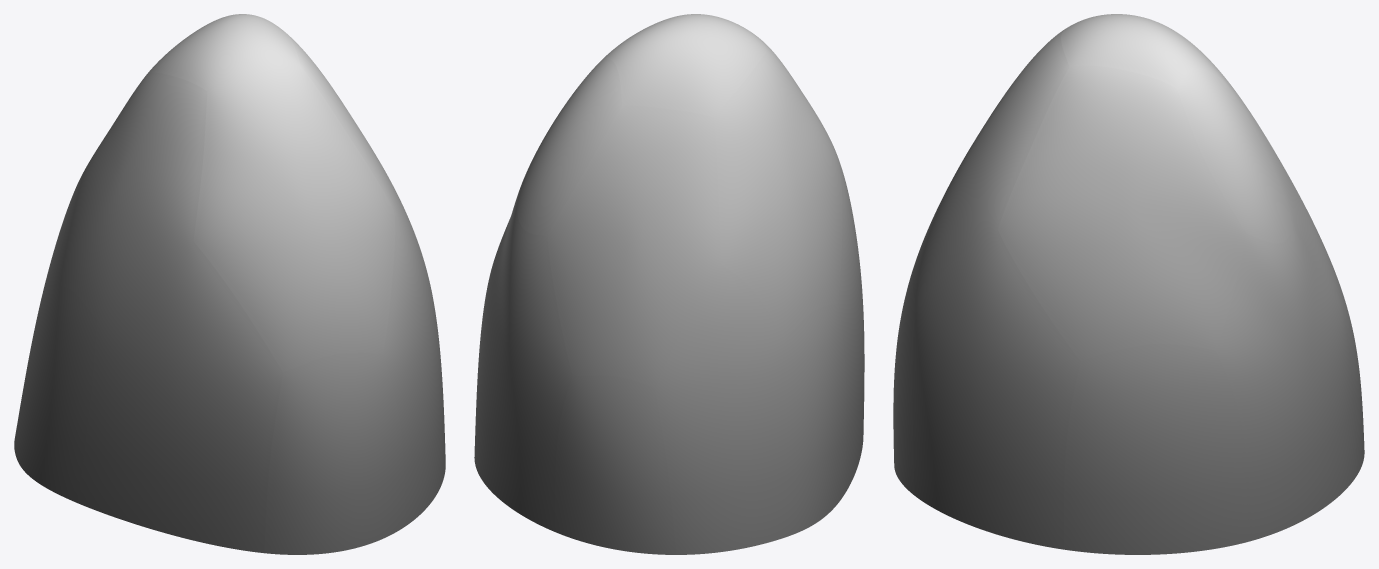
Rendered from Stone1.fbx.
The picture shows the model from 3 angles, left to right: view 1: azimuth 30°, elevation 25°; view 2: azimuth 150°, elevation 25°; view 3: azimuth 270°, elevation 25°; orthographic projection. The views are drawn at different scales.
Visible parts, largest first — view 1: stone 1; view 2: stone 1; view 3: stone 1.
Boxes of the visible parts, box(x1,y1,x2,y2) form: stone 1: box(14, 14, 445, 554); stone 1: box(474, 14, 864, 554); stone 1: box(893, 14, 1364, 554).
Size of the model in its own units: 47.95 by 57.06 by 55.
